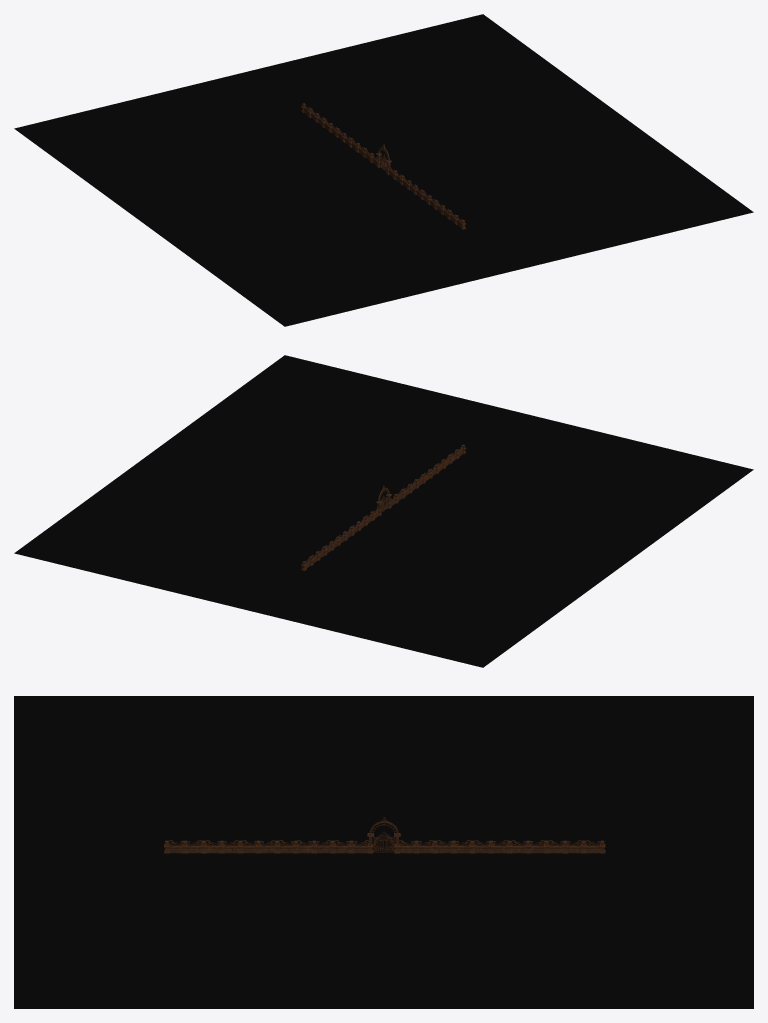
File: heaven1.glb
3 views of the same model, one above another, from view 1: azimuth 30°, elevation 25°; view 2: azimuth 150°, elevation 25°; view 3: azimuth 270°, elevation 25° (orthographic). The views are drawn at different scales.
Parts seen in each view (by area): view 1: Plane, Cube_006; view 2: Plane, Cube_006; view 3: Plane, Cube_006, BezierCurve_012.
Part boxes in pixels (<box>): Plane: <box>14,14,753,326</box>; Cube_006: <box>301,103,466,229</box>; Plane: <box>14,355,753,667</box>; Cube_006: <box>301,444,466,570</box>; Plane: <box>14,696,753,1008</box>; Cube_006: <box>164,837,605,853</box>; BezierCurve_012: <box>168,840,600,845</box>.
Size of the model in its own units: 150 by 7.99 by 150.
Materials: 2 (1 with a texture image).
